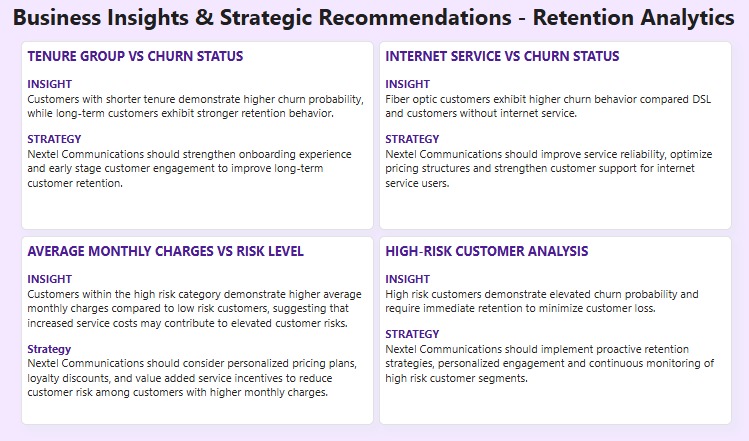

The dashboard page shown, as its layout file describes it:
{"tool":"powerbi","page":{"name":"Business Insights & Retention Recommendations for Page 2","canvas":[1280,720],"ordinal":3},"visuals":[{"type":"textbox","box":[108.4,10.1,1062.7,63.6],"z":0},{"type":"textbox","box":[125.8,73.7,510,273.3],"z":1000},{"type":"textbox","box":[643.4,73.7,510.4,273.3],"z":2000},{"type":"textbox","box":[125.8,355.7,510.4,273.3],"z":3000},{"type":"textbox","box":[643.4,355.7,510.4,273.3],"z":4000}]}

Visuals, with their boxes on the page's 1280x720 design canvas (x1, y1, x2, y2). These are canvas units, not pixel positions in the 749x441 screenshot, which may show the page scaled, cropped or inside an application window:
textbox: bbox(108, 10, 1171, 74)
textbox: bbox(126, 74, 636, 347)
textbox: bbox(643, 74, 1154, 347)
textbox: bbox(126, 356, 636, 629)
textbox: bbox(643, 356, 1154, 629)
